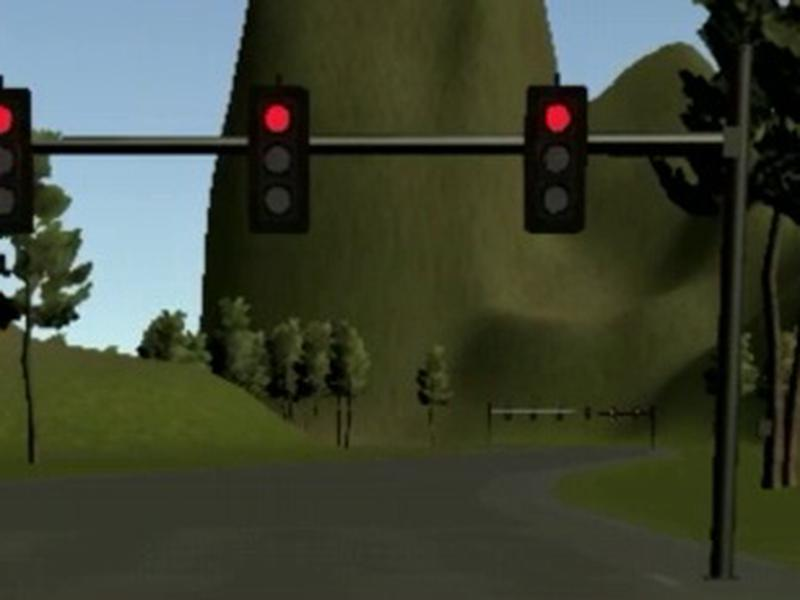Red: (526, 86, 588, 231), (250, 87, 308, 232), (1, 88, 32, 233)
